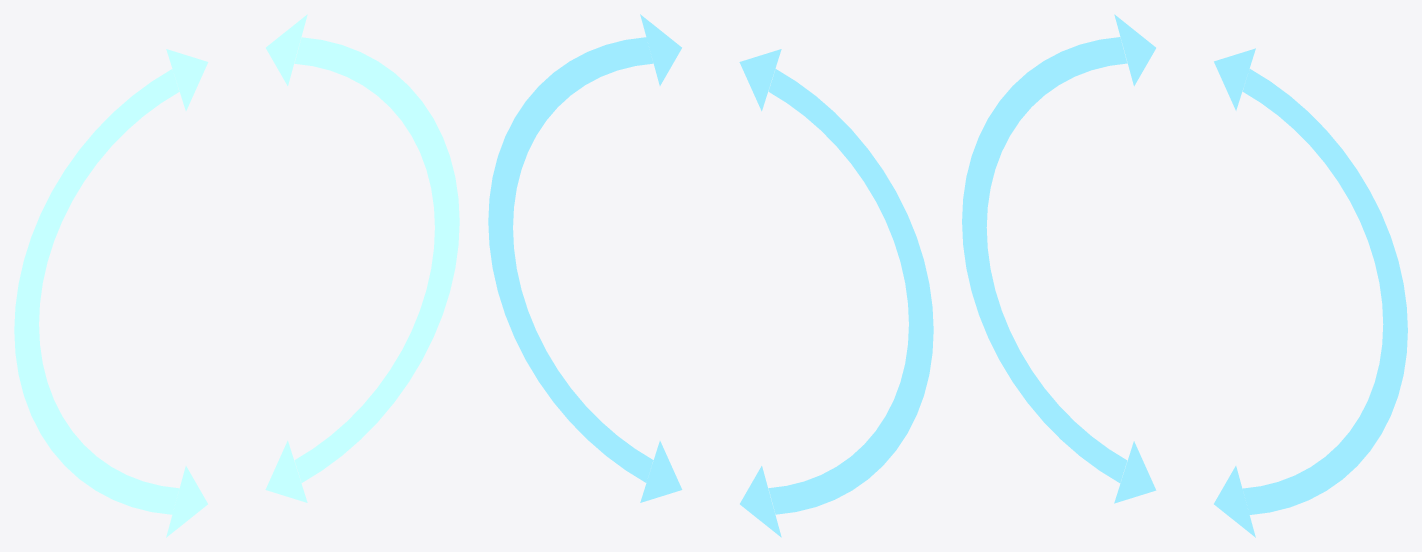
File: manipulator_rotate.dae
3 views of the same model, side by side, from view 1: azimuth 30°, elevation 25°; view 2: azimuth 150°, elevation 25°; view 3: azimuth 330°, elevation 25° (orthographic).
Parts seen in each view (by area): view 1: manipulator_rotate; view 2: manipulator_rotate; view 3: manipulator_rotate.
Boxes of the visible parts, left/top/right/bottom form: manipulator_rotate: left=14, top=14, right=459, bottom=537; manipulator_rotate: left=488, top=14, right=933, bottom=537; manipulator_rotate: left=962, top=14, right=1407, bottom=537.
Size of the model in its own units: 0.3948 by 0.000113 by 0.4146.
